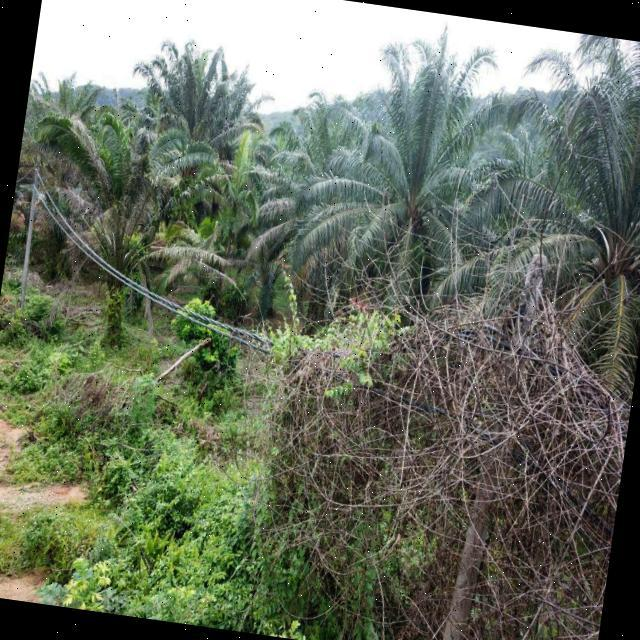critical vegetation: (187, 211, 640, 545)
